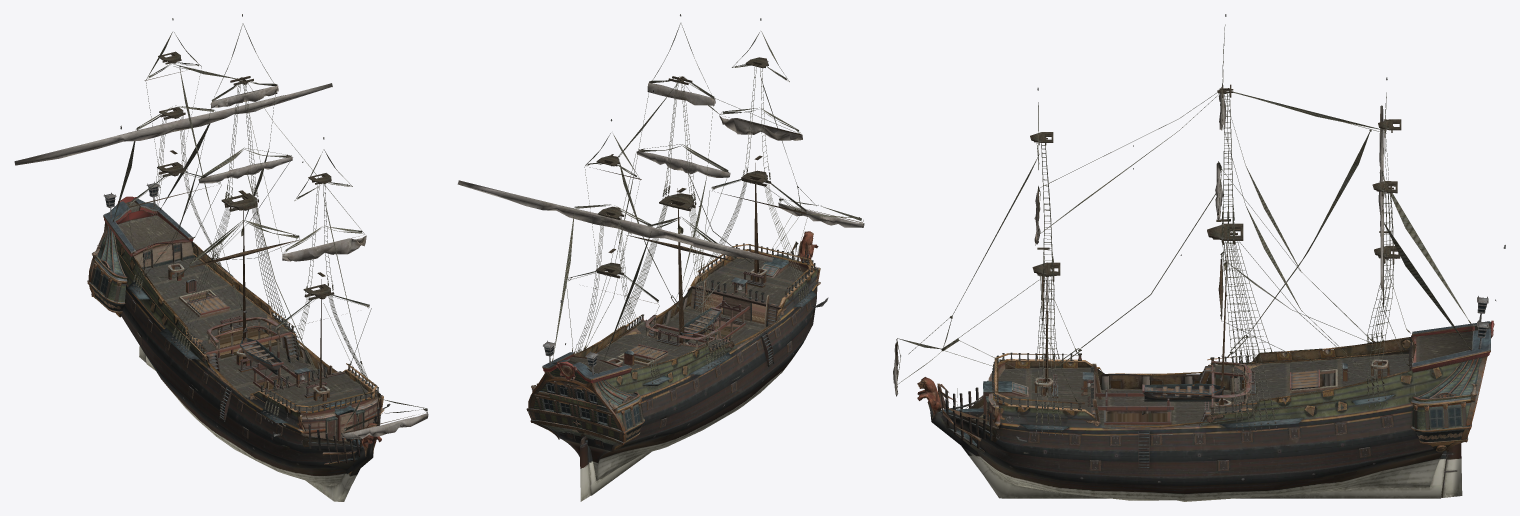
File: pirateship.glb
3 views of the same model, side by side, from view 1: azimuth 30°, elevation 25°; view 2: azimuth 150°, elevation 25°; view 3: azimuth 270°, elevation 25° (orthographic). The views are drawn at different scales.
Parts seen in each view (by area): view 1: Object_13, Object_16, Object_9, Object_24, Object_11, Object_7, Object_18; view 2: Object_13, Object_9, Object_16, Object_7, Object_24, Object_11, Object_18; view 3: Object_13, Object_9, Object_16, Object_7, Object_11, Object_18, Object_24.
Part boxes in pixels (<box>): Object_13: <box>115,235,384,501</box>; Object_16: <box>113,201,379,445</box>; Object_9: <box>112,14,427,441</box>; Object_24: <box>14,83,428,438</box>; Object_11: <box>103,181,381,456</box>; Object_7: <box>87,196,193,317</box>; Object_18: <box>130,242,379,450</box>; Object_13: <box>543,241,820,501</box>; Object_9: <box>551,14,864,389</box>; Object_16: <box>552,243,815,384</box>; Object_7: <box>526,352,644,452</box>; Object_24: <box>457,82,863,283</box>; Object_11: <box>543,231,818,375</box>; Object_18: <box>554,256,816,440</box>; Object_13: <box>929,338,1462,501</box>; Object_9: <box>895,14,1505,442</box>; Object_16: <box>963,325,1490,438</box>; Object_7: <box>1410,320,1494,452</box>; Object_11: <box>917,296,1488,469</box>; Object_18: <box>967,337,1457,482</box>; Object_24: <box>893,87,1384,396</box>.
Bounding box in the file's own units: 25.99 × 32.55 × 37.43.
Materials: 7 (7 with a texture image).
